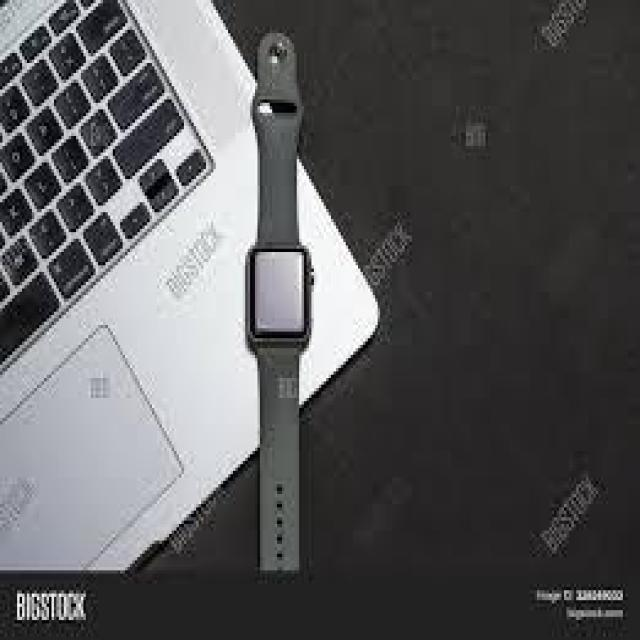laptop_computer: (0, 0, 228, 587)
watch: (236, 28, 343, 590)
